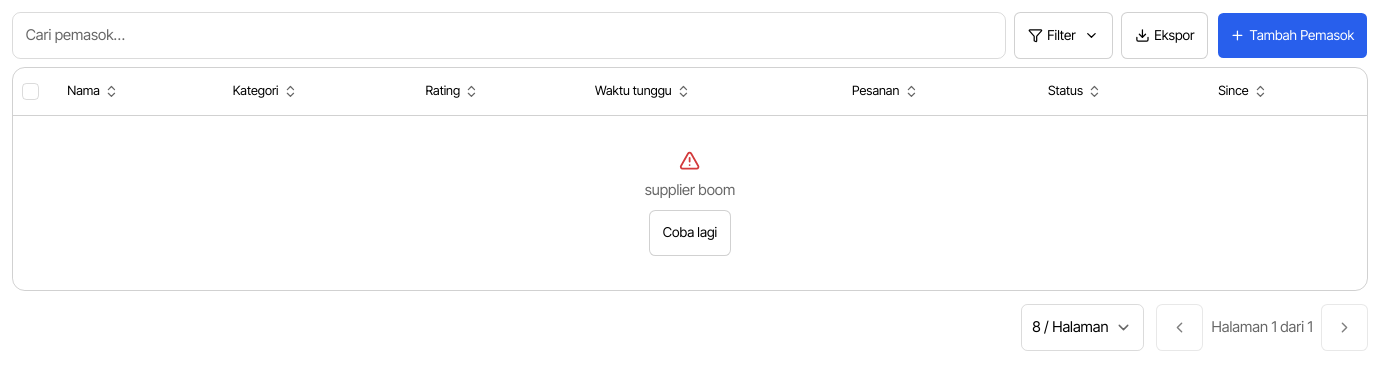
Test: SuppliersTable › shows the error state with retry and refetches
Expected: the text "supplier boom" is shown, [645,180,735,201]
Click the button "Coba lagi": (690,233) [649,210,731,256]
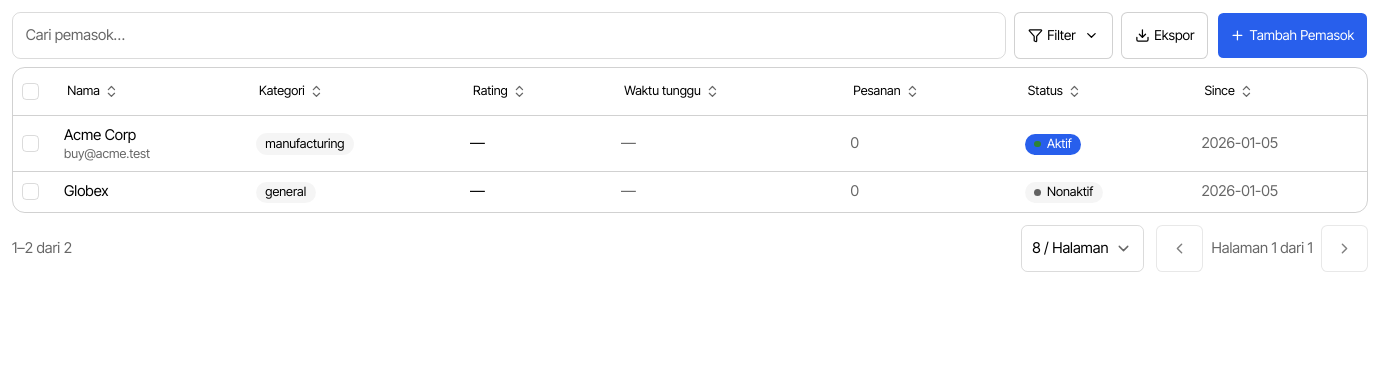
Now the text "Acme Corp" is shown, box [64,126,136,144]
